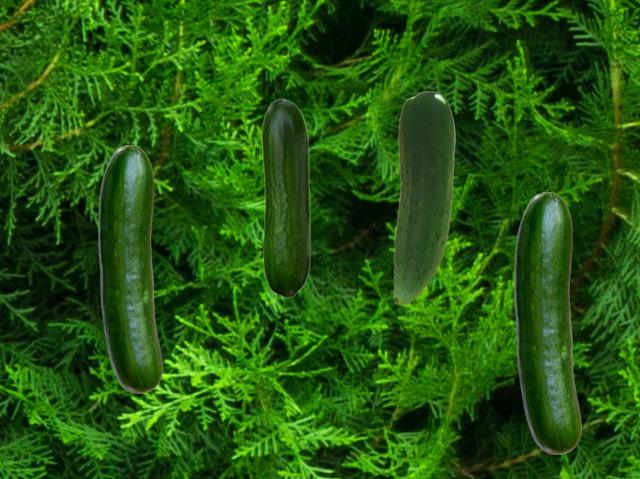cucumber: (514, 192, 580, 453), (98, 145, 161, 392), (393, 91, 454, 304), (261, 98, 310, 297)
